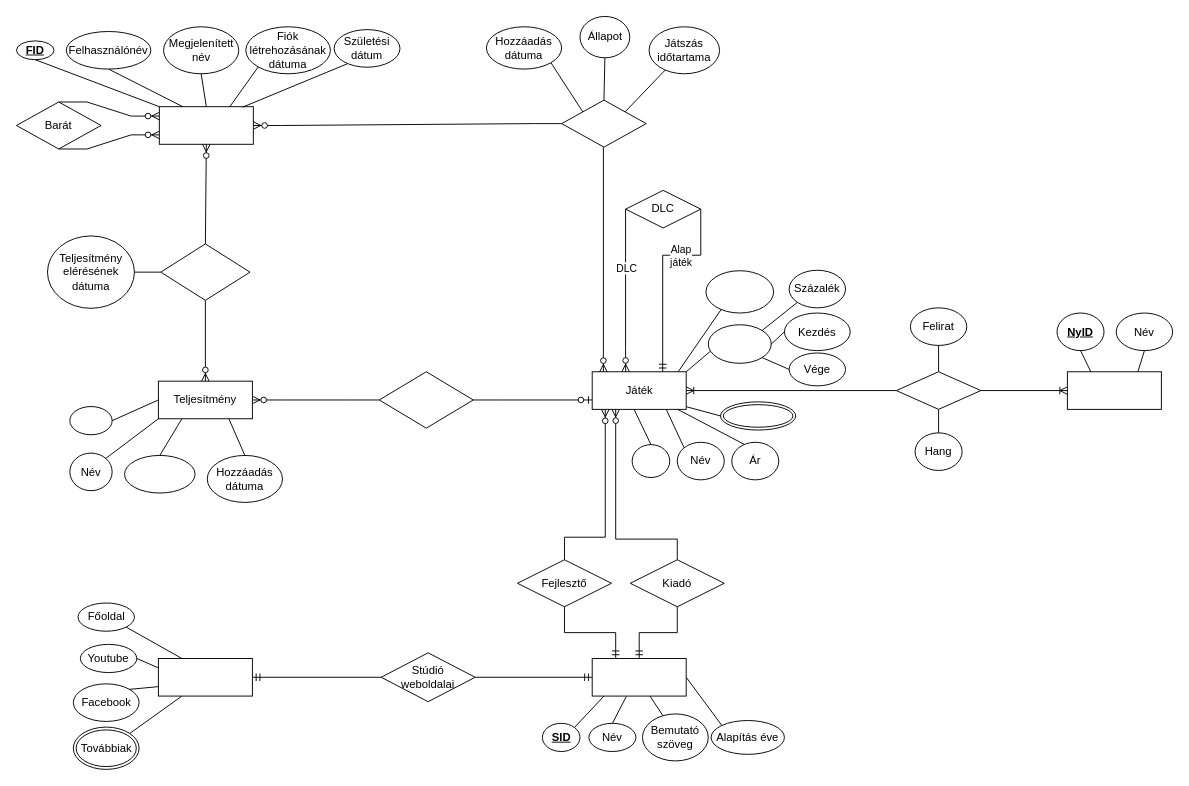
The diagram is 1189 pixels wide and 786 high, and some of its shapes have lost their labels. Here are the shapes that lost their labels. From the top down, the centre of each, then its label:
the point at 205,125: Felhasználó
the point at 603,123: Hozzáadta
the point at 205,271: Elérte
the point at 739,291: Kiadás dátuma
the point at 739,343: ( Leárazás )
the point at 425,399: Hozzátartozik
the point at 938,390: Támogatja
the point at 1113,390: Nyelv
the point at 90,420: TID
the point at 758,415: Műfaj
the point at 159,473: Leírás
the point at 650,461: JID
the point at 204,677: Külső weboldalak
the point at 638,677: Stúdió
